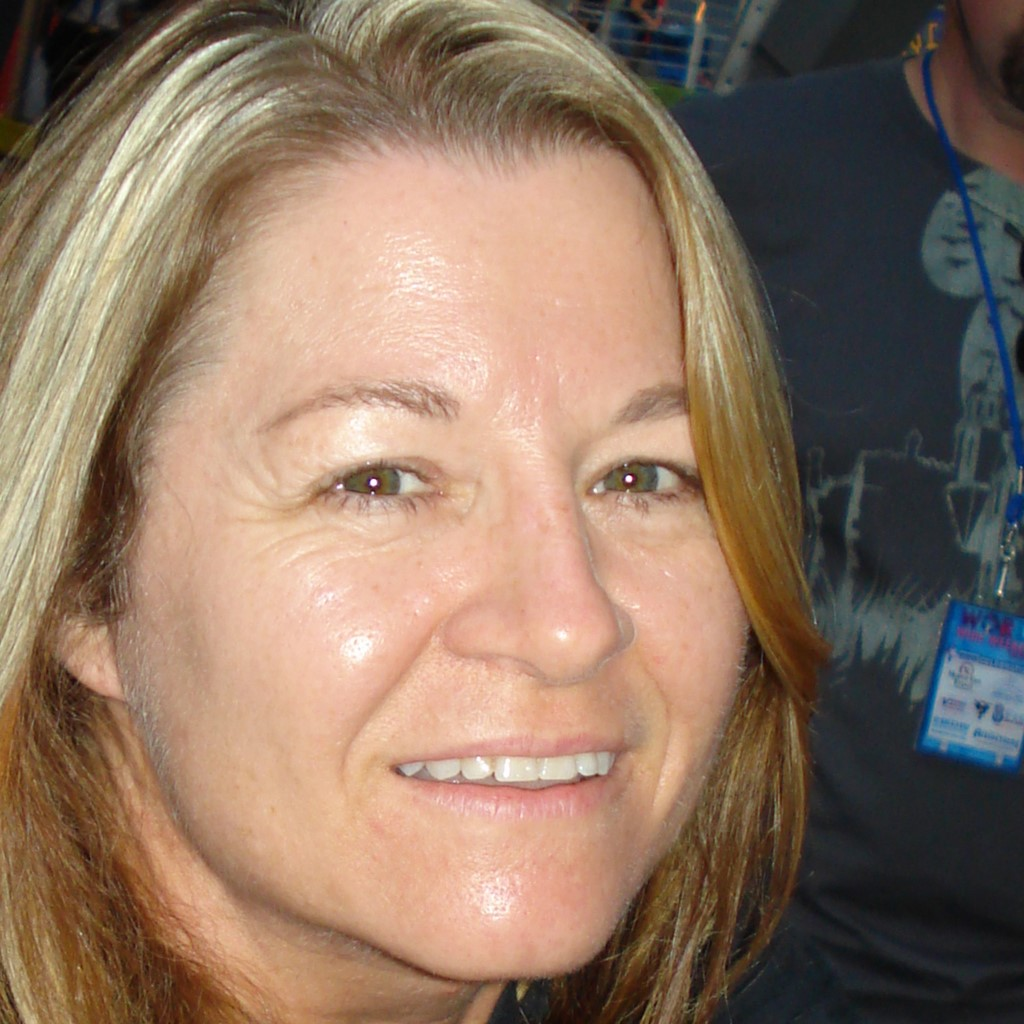sin_mascara: (113, 126, 720, 976)
